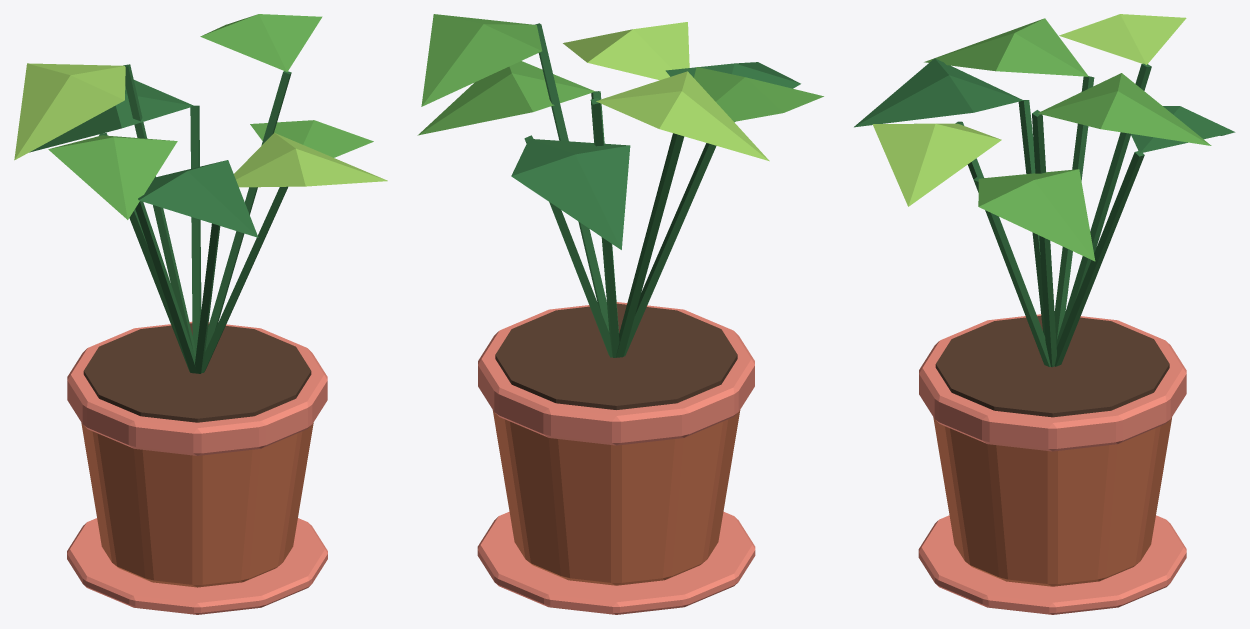
File: potted_plant.glb
3 views of the same model, side by side, from view 1: azimuth 30°, elevation 25°; view 2: azimuth 150°, elevation 25°; view 3: azimuth 270°, elevation 25° (orthographic). The views are drawn at different scales.
Parts seen in each view (by area): view 1: Potted Plant; view 2: Potted Plant; view 3: Potted Plant.
Boxes of the visible parts, x1,y1,x2,y2 form: Potted Plant: [14, 14, 387, 614]; Potted Plant: [417, 14, 823, 614]; Potted Plant: [854, 14, 1235, 614].
Size of the model in its own units: 0.8704 by 1.26 by 0.8502.
1 material, 1 textured.
